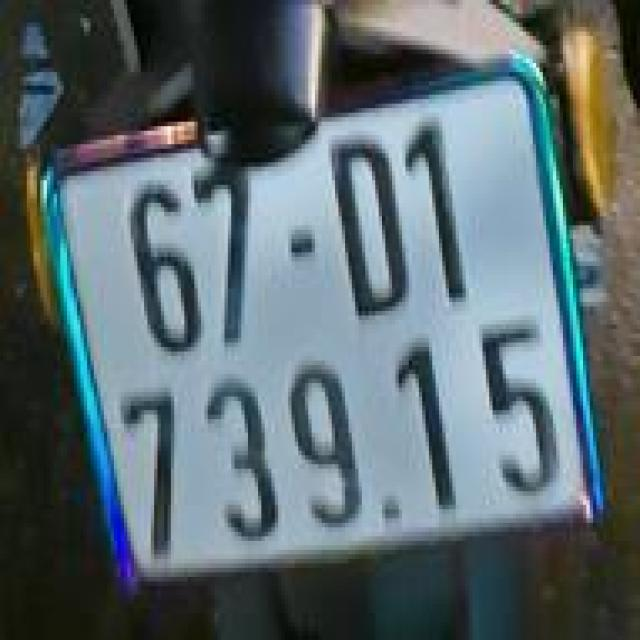1: (396, 105, 488, 319), (384, 326, 471, 521)
3: (195, 362, 291, 550)
5: (467, 305, 572, 507)
6: (121, 175, 216, 366)
7: (185, 151, 271, 357), (112, 379, 200, 568)
9: (277, 344, 378, 539)
D: (317, 115, 429, 334)
